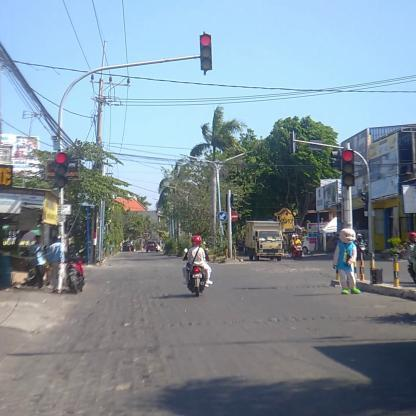red: (340, 147, 356, 188), (199, 33, 214, 72), (52, 151, 66, 189)
